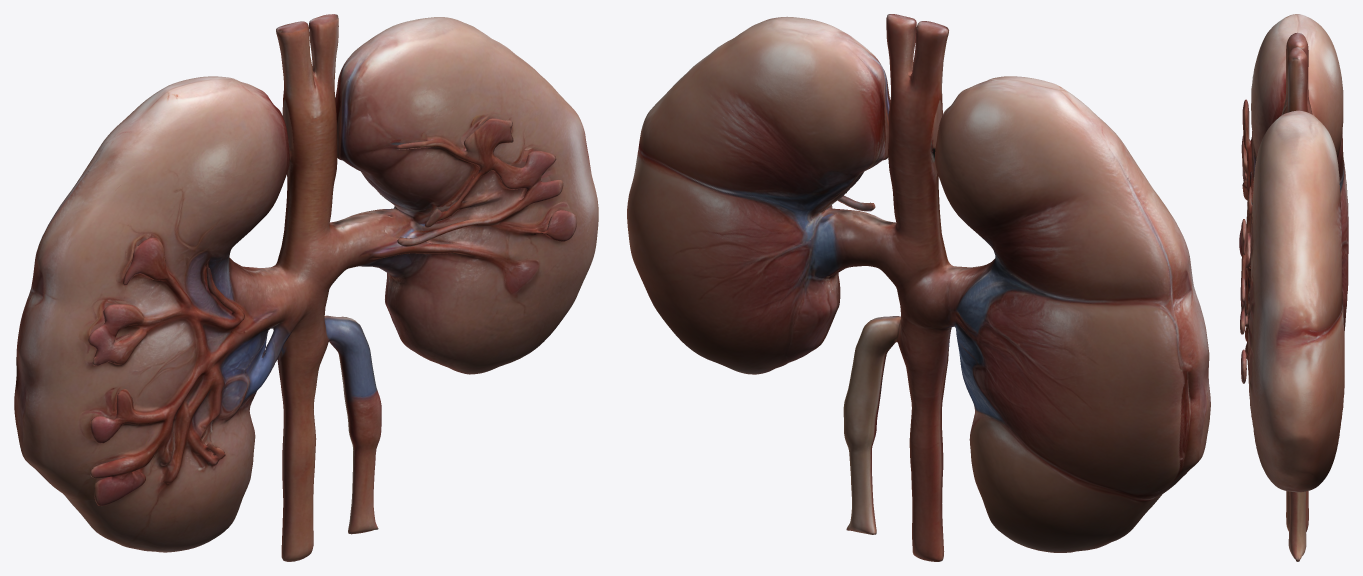
The model's file is ginjal.glb.
3 renders of one model, left to right at view 1: azimuth 30°, elevation 25°; view 2: azimuth 150°, elevation 25°; view 3: azimuth 270°, elevation 25°, orthographic. The views are drawn at different scales.
Size of the model in its own units: 2 by 1.8 by 0.3602.
Materials: 1 (1 with a texture image).
